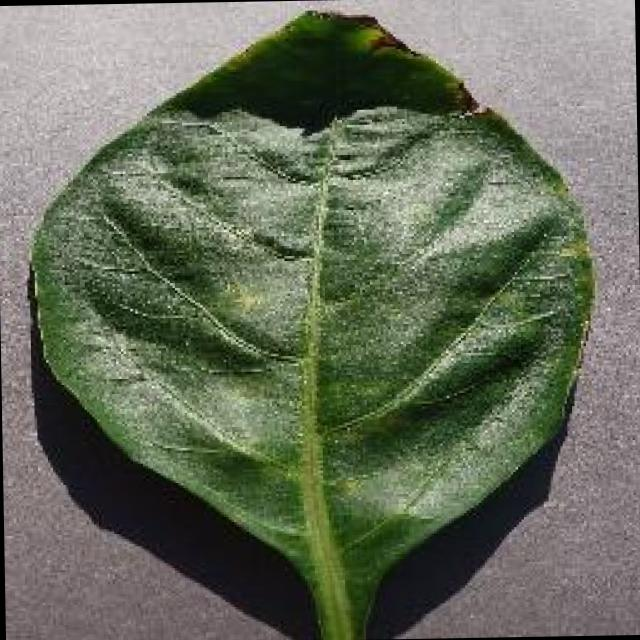Chilli_Bacterial_Spot: (19, 0, 605, 640), (217, 274, 264, 320), (360, 26, 402, 57)
